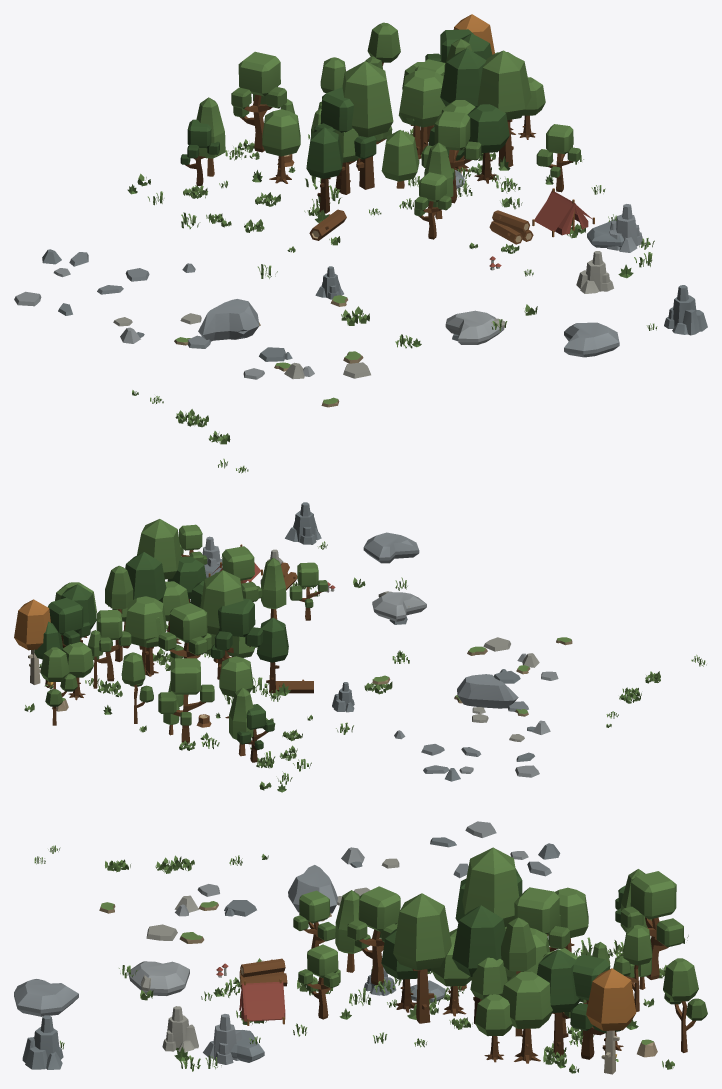
Rendered from cell_x-1_z-2_render.gltf.
3 views of the same model, one above another, from view 1: azimuth 30°, elevation 25°; view 2: azimuth 150°, elevation 25°; view 3: azimuth 270°, elevation 25° (orthographic). The views are drawn at different scales.
Parts seen in each view (by area): view 1: cell_x-1_z-2; view 2: cell_x-1_z-2; view 3: cell_x-1_z-2.
Part boxes in pixels (bbox=[...]): cell_x-1_z-2: bbox=[14, 14, 707, 473]; cell_x-1_z-2: bbox=[14, 502, 706, 792]; cell_x-1_z-2: bbox=[14, 821, 707, 1074].
Bounding box in the file's own units: 41.14 × 13.61 × 42.67.
